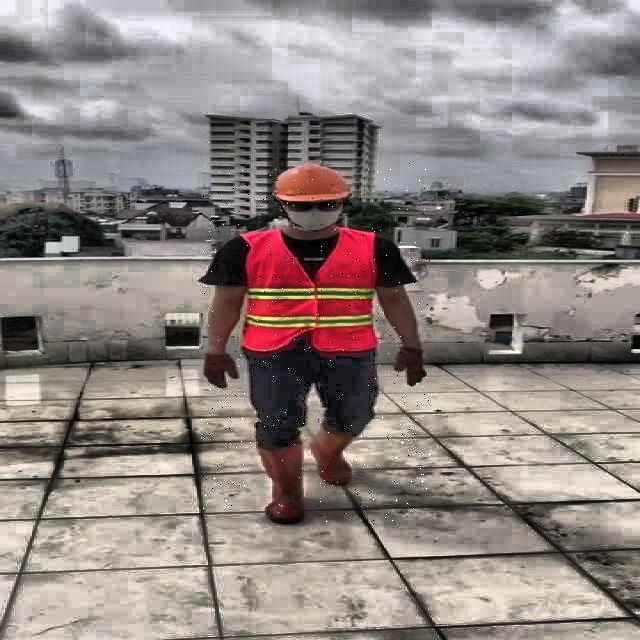safety_helmet: (270, 162, 350, 202)
safety_jacket: (236, 230, 377, 353)
